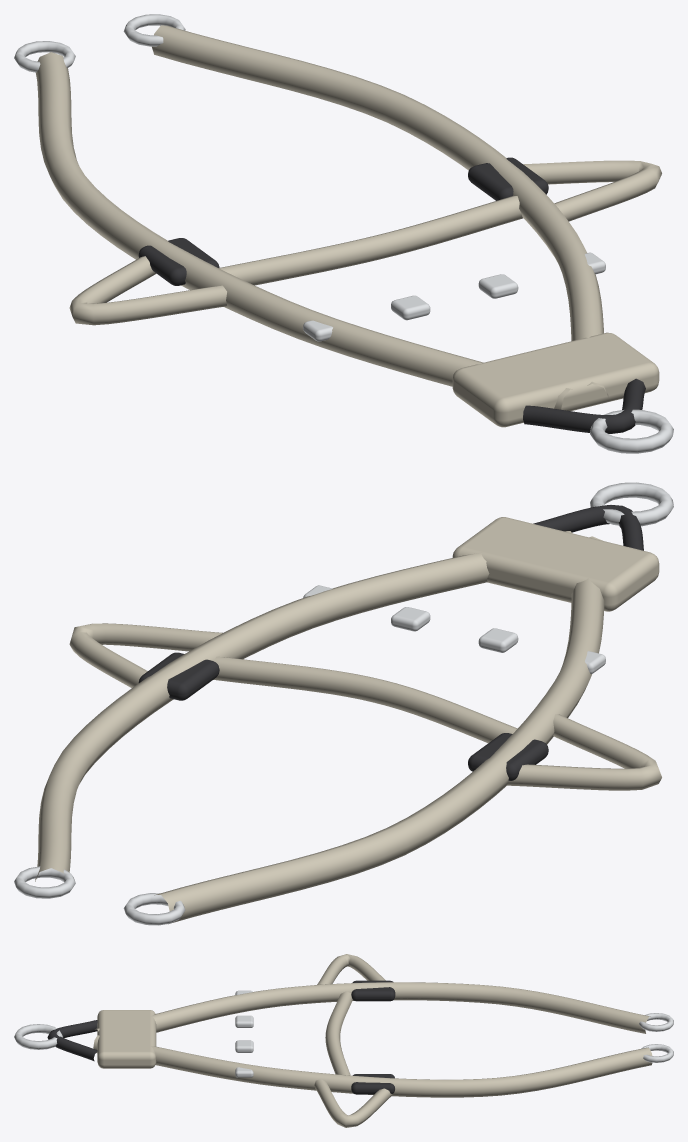
The model's file is arctic-station-fps-kit-sled-harness-c90edbf5__28539.glb.
The picture shows the model from 3 angles, top to bottom: view 1: azimuth 30°, elevation 25°; view 2: azimuth 150°, elevation 25°; view 3: azimuth 270°, elevation 25°; orthographic projection. The views are drawn at different scales.
Visible parts, largest first — view 1: sled-harness; view 2: sled-harness; view 3: sled-harness.
Part boxes in pixels (<box>): sled-harness: <box>14,14,673,453</box>; sled-harness: <box>14,482,673,925</box>; sled-harness: <box>14,954,673,1127</box>.
Size of the model in its own units: 1.07 by 0.0628 by 1.79.
